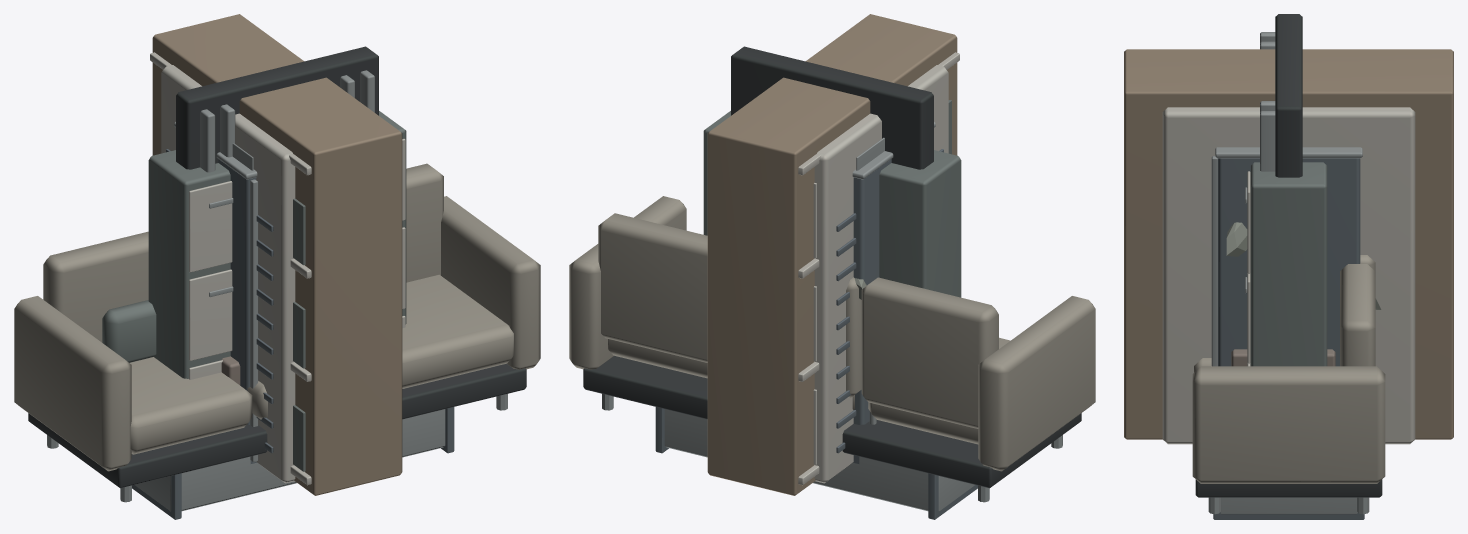
File: office-kit.glb
3 renders of one model, left to right at view 1: azimuth 30°, elevation 25°; view 2: azimuth 150°, elevation 25°; view 3: azimuth 270°, elevation 25°, orthographic.
Visible parts, largest first — view 1: Sofa_DecorMatte, Bookshelf_DecorMatte, Lockers_DecorMatte, Cooling_DecorMatte, AcousticPanel_DecorMatte, Duct_DecorMatte, Rack_DecorMatte; view 2: Sofa_DecorMatte, Bookshelf_DecorMatte, Cooling_DecorMatte, Lockers_DecorMatte, AcousticPanel_DecorMatte, Duct_DecorMatte, Rack_DecorMatte; view 3: Bookshelf_DecorMatte, Cooling_DecorMatte, Sofa_DecorMatte, Lockers_DecorMatte, Rack_DecorMatte, AcousticPanel_DecorMatte, Duct_DecorMatte, Plant_DecorMatte, ParcelTrolley_DecorMatte.
Boxes of the visible parts, x1,y1,x2,y2 form: Sofa_DecorMatte: (14, 163, 540, 502); Bookshelf_DecorMatte: (150, 14, 402, 495); Lockers_DecorMatte: (148, 111, 406, 379); Cooling_DecorMatte: (161, 65, 295, 483); AcousticPanel_DecorMatte: (176, 46, 378, 172); Duct_DecorMatte: (132, 407, 454, 519); Rack_DecorMatte: (174, 122, 258, 463); Sofa_DecorMatte: (569, 196, 1095, 502); Bookshelf_DecorMatte: (707, 14, 959, 495); Cooling_DecorMatte: (814, 65, 948, 483); Lockers_DecorMatte: (703, 111, 961, 297); AcousticPanel_DecorMatte: (731, 46, 933, 169); Duct_DecorMatte: (655, 407, 977, 519); Rack_DecorMatte: (852, 122, 935, 463); Bookshelf_DecorMatte: (1124, 49, 1453, 439); Cooling_DecorMatte: (1162, 107, 1415, 444); Sofa_DecorMatte: (1192, 255, 1385, 514); Lockers_DecorMatte: (1245, 162, 1327, 366); Rack_DecorMatte: (1211, 147, 1362, 366); AcousticPanel_DecorMatte: (1260, 14, 1302, 177); Duct_DecorMatte: (1213, 497, 1364, 519); Plant_DecorMatte: (1226, 222, 1381, 309); ParcelTrolley_DecorMatte: (1231, 349, 1335, 366).
Size of the model in its own units: 9.35 by 7.85 by 6.
